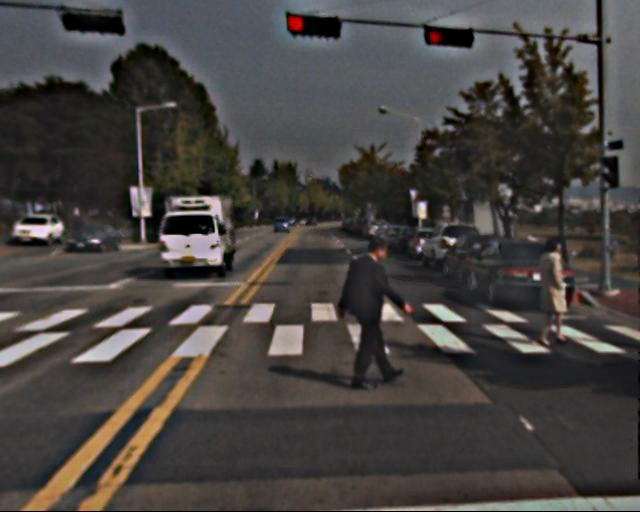person: (343, 236, 405, 387), (533, 238, 577, 345)
